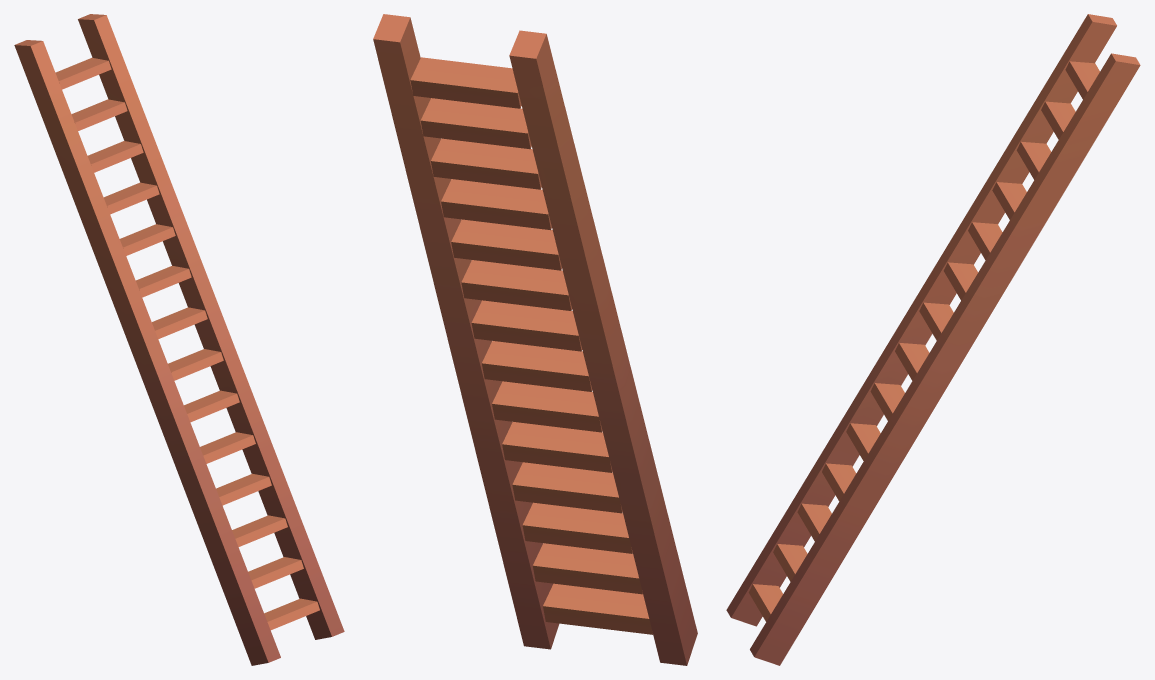
Rendered from Ladder.glb.
3 views of the same model, side by side, from view 1: azimuth 30°, elevation 25°; view 2: azimuth 150°, elevation 25°; view 3: azimuth 270°, elevation 25° (orthographic). The views are drawn at different scales.
Parts seen in each view (by area): view 1: Ladder; view 2: Ladder; view 3: Ladder.
Part boxes in pixels (x1,y1,x2,y2): Ladder: (14,14,344,665); Ladder: (373,14,697,665); Ladder: (726,14,1140,665).
Size of the model in its own units: 1.31 by 3.97 by 2.62.
Materials: 1 (1 with a texture image).
